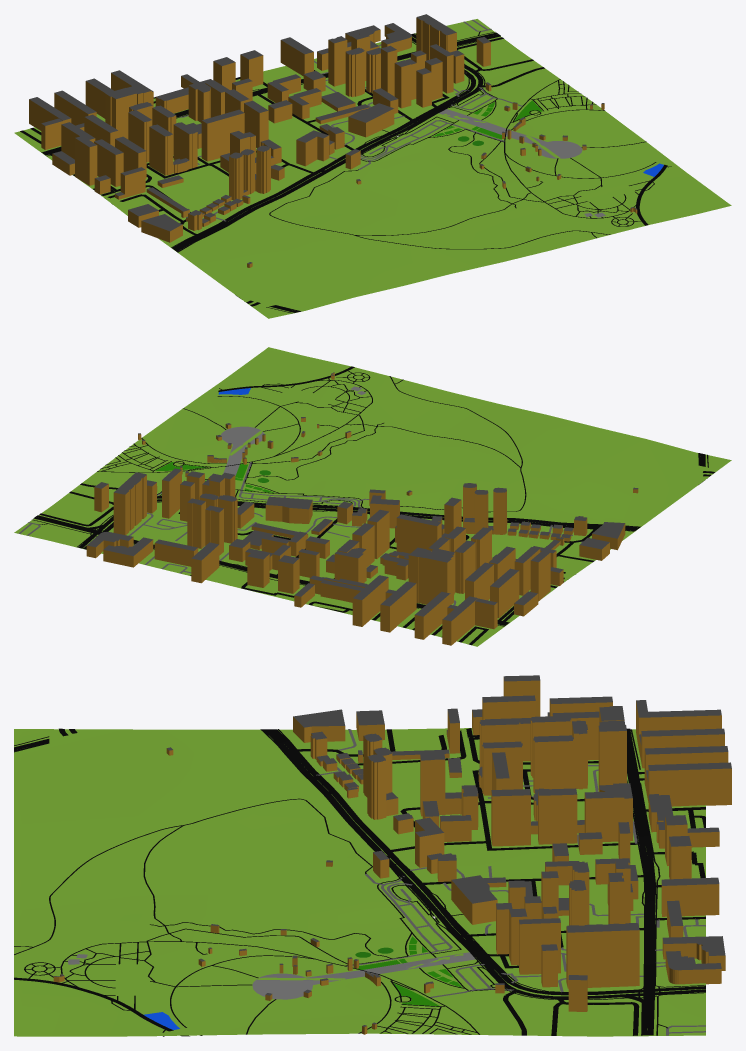
The model's file is tile_07_02.glb.
3 views of the same model, one above another, from view 1: azimuth 30°, elevation 25°; view 2: azimuth 150°, elevation 25°; view 3: azimuth 270°, elevation 25° (orthographic). The views are drawn at different scales.
Parts seen in each view (by area): view 1: Terrain_07_02, Ub_small.osm_buildings_07_02, Ub_small.osm_paths_footway_07_02, Ub_small.osm_roads_primary_07_02, Ub_small.osm_roads_residential_07_02, Ub_small.osm_areas_pedestrian_07_02, Ub_small.osm_roads_service_07_02, Ub_small.osm_vegetation_07_02, Ub_small.osm_roads_secondary_07_02; view 2: Terrain_07_02, Ub_small.osm_buildings_07_02, Ub_small.osm_paths_footway_07_02, Ub_small.osm_roads_residential_07_02, Ub_small.osm_roads_service_07_02, Ub_small.osm_roads_primary_07_02, Ub_small.osm_areas_pedestrian_07_02, Ub_small.osm_roads_secondary_07_02; view 3: Terrain_07_02, Ub_small.osm_buildings_07_02, Ub_small.osm_paths_footway_07_02, Ub_small.osm_roads_primary_07_02, Ub_small.osm_roads_residential_07_02, Ub_small.osm_roads_secondary_07_02, Ub_small.osm_roads_service_07_02, Ub_small.osm_areas_pedestrian_07_02, Ub_small.osm_vegetation_07_02, Ub_small.osm_roads_unclassified_07_02.
Boxes of the visible parts, x1,y1,x2,y2 form: Terrain_07_02: (14, 19, 731, 318); Ub_small.osm_buildings_07_02: (29, 14, 637, 267); Ub_small.osm_paths_footway_07_02: (41, 31, 671, 313); Ub_small.osm_roads_primary_07_02: (172, 33, 483, 312); Ub_small.osm_roads_residential_07_02: (20, 37, 544, 235); Ub_small.osm_areas_pedestrian_07_02: (439, 109, 605, 217); Ub_small.osm_roads_service_07_02: (179, 19, 522, 221); Ub_small.osm_vegetation_07_02: (432, 100, 542, 139); Ub_small.osm_roads_secondary_07_02: (42, 32, 500, 306); Terrain_07_02: (14, 347, 731, 646); Ub_small.osm_buildings_07_02: (86, 372, 638, 645); Ub_small.osm_paths_footway_07_02: (32, 370, 708, 626); Ub_small.osm_roads_residential_07_02: (39, 483, 596, 645); Ub_small.osm_roads_service_07_02: (18, 462, 582, 605); Ub_small.osm_roads_primary_07_02: (78, 453, 705, 549); Ub_small.osm_areas_pedestrian_07_02: (220, 386, 366, 475); Ub_small.osm_roads_secondary_07_02: (33, 471, 714, 625); Terrain_07_02: (14, 728, 705, 1036); Ub_small.osm_buildings_07_02: (53, 675, 731, 1034); Ub_small.osm_paths_footway_07_02: (14, 729, 705, 1036); Ub_small.osm_roads_primary_07_02: (14, 729, 705, 1002); Ub_small.osm_roads_residential_07_02: (293, 728, 705, 1035); Ub_small.osm_roads_secondary_07_02: (59, 728, 655, 1035); Ub_small.osm_roads_service_07_02: (316, 729, 705, 1035); Ub_small.osm_areas_pedestrian_07_02: (68, 952, 475, 999); Ub_small.osm_vegetation_07_02: (357, 936, 461, 1006); Ub_small.osm_roads_unclassified_07_02: (14, 977, 189, 1036).
Size of the model in its own units: 995 by 101 by 965.
